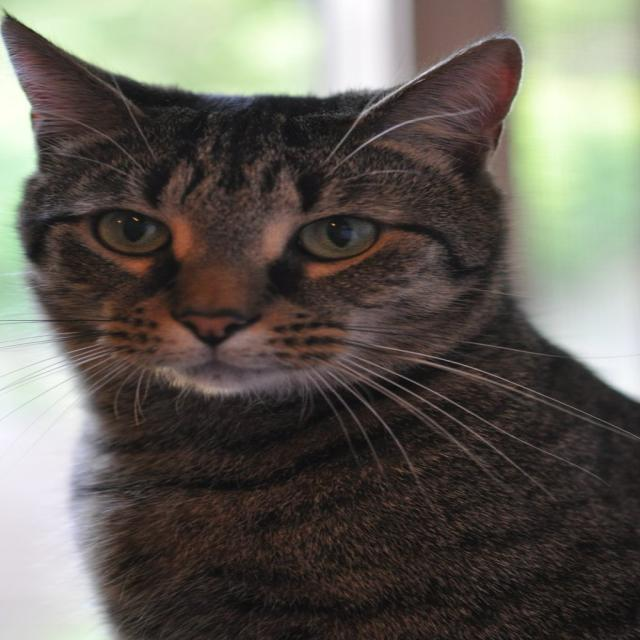Cat: (0, 10, 638, 639)
